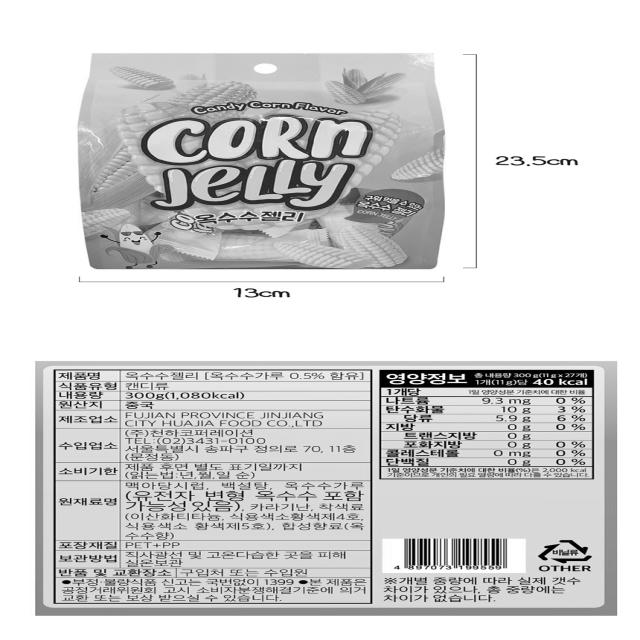Nutrition Label: (370, 366, 603, 482)
